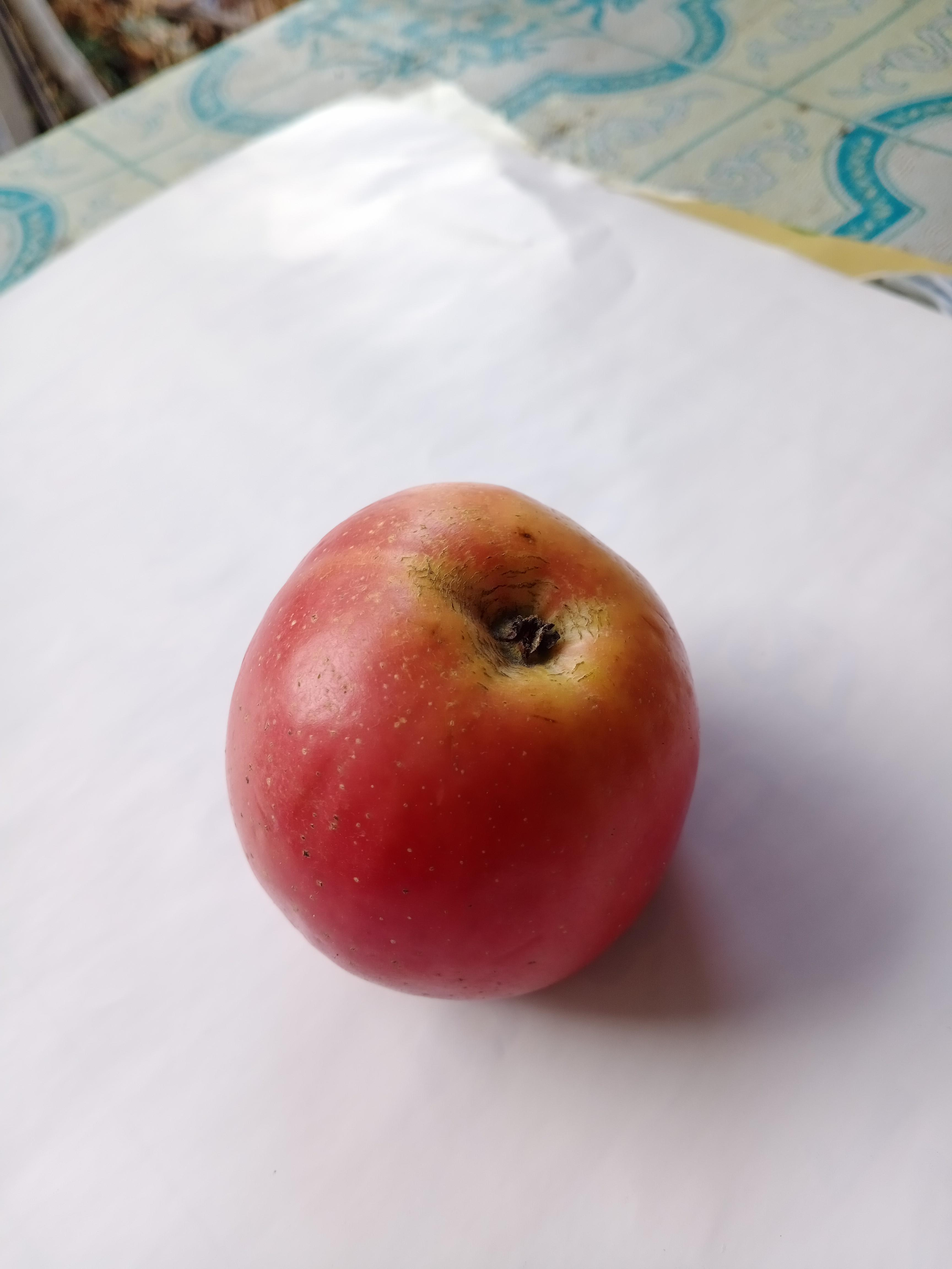Apple Ripe: (185, 463, 694, 1027)
